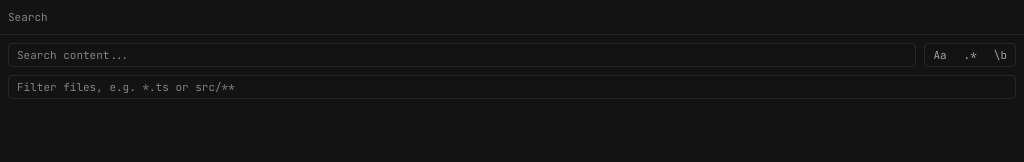
Test case: SearchPanel › Roving nav keyboard navigation › S-2 — Enter flush seeds the cursor from the fresh results, not the stale pre-flush rows
Note: Produce the STALE results first.
Type "old" into the field with placeholder "Search content..." at (462, 55), box [8,43,916,67]
Wait 200 ms
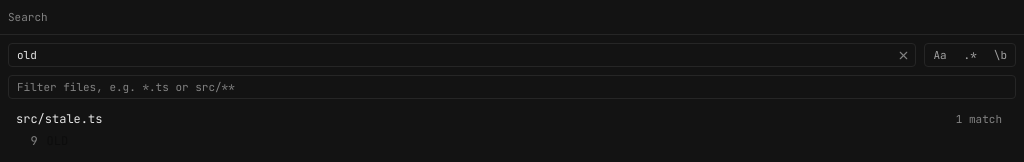
Expected: the text "src/stale.ts" is shown, [16,111,102,127]
Replace the text in the field with placeholder "Search content..." with "new" at (462, 55), box [8,43,916,67]
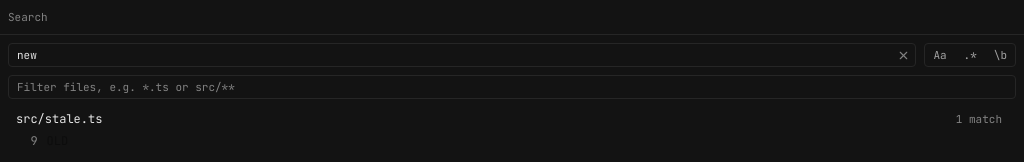
Press Enter in the field with placeholder "Search content...", box [8,43,916,67]
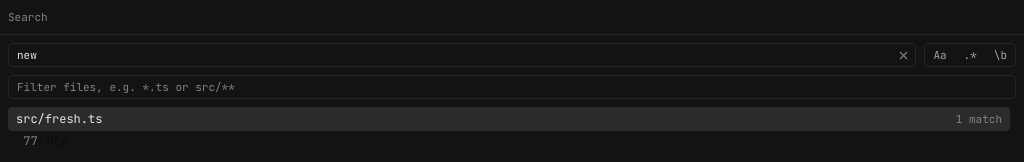
Expected: the text "src/fresh.ts" is shown, [16,111,102,127]
